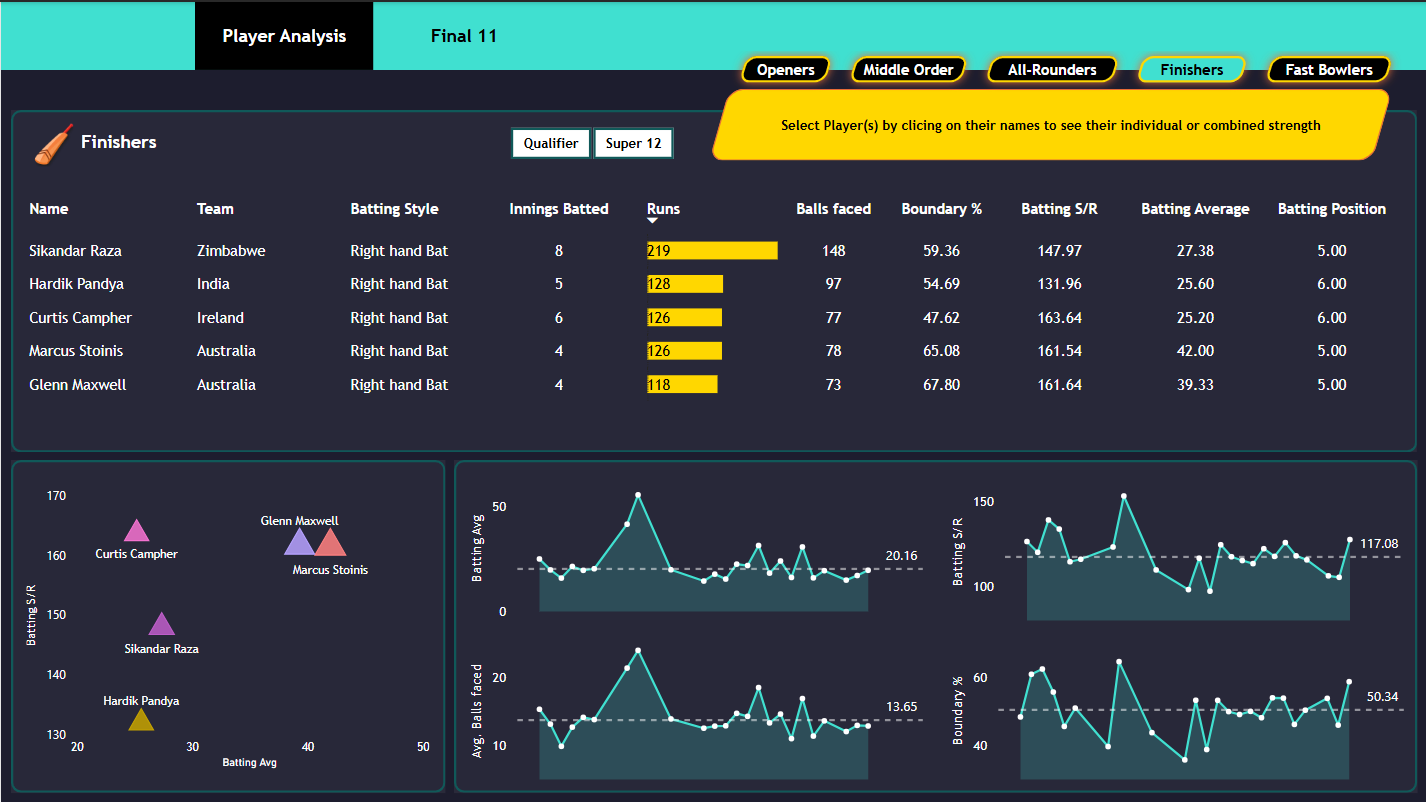

What the dashboard file says about the page in this screenshot:
{"tool":"powerbi","page":{"name":"Finishers/Lower Order Anchors","canvas":[1280,720],"ordinal":3},"visuals":[{"type":"shape","box":[0,61.3,1280,658.5],"z":0},{"type":"shape","box":[8.8,97.3,1262.5,307.4],"z":1000},{"type":"shape","box":[8.8,411.4,390,298.6],"z":2000},{"type":"shape","box":[635.4,78.3,613.7,64.2],"z":3000},{"type":"tableEx","fields":{"Values":["Players Data.name","Players Data.team","Players Data.battingStyle","Key_Measures.Total Innings Batted","Key_Measures.Total Runs","Key_Measures.total balls faced","Key_Measures.Boundary %","Key_Measures.Strike rate","Key_Measures.Batting Avg","Key_Measures.Batting Position"]},"box":[15.6,166.3,1248.9,234.4],"z":4000},{"type":"scatterChart","title":"Players by Batting Avg & Strike rate","fields":{"Category":["Players Data.name"],"X":["Key_Measures.Batting Avg"],"Y":["Key_Measures.Strike rate"],"Size":["Key_Measures.Batting Avg"]},"box":[17.5,428.9,371.6,263.6],"z":5000},{"type":"slicer","fields":{"Values":["Match Data.stage"]},"box":[431.9,106,196.5,37],"z":6000},{"type":"shape","box":[72,104.1,176,42.8],"z":7000},{"type":"card","fields":{"Values":["Key_Measures.Batting Avg"]},"box":[820.9,78.8,96.3,64.2],"z":8000},{"type":"card","fields":{"Values":["Key_Measures.Strike rate"]},"box":[917.2,78.8,112.8,64.2],"z":9000},{"type":"card","fields":{"Values":["Key_Measures.Boundary %"]},"box":[1130.2,78.8,93.4,64.2],"z":10000},{"type":"card","fields":{"Values":["Key_Measures.Avg. Balls faced"]},"box":[1030,78.8,100.2,64.2],"z":11000},{"type":"shape","box":[653.6,96.3,163.4,29.2],"z":12000},{"type":"shape","box":[406.6,411.4,864.7,298.6],"z":13000},{"type":"actionButton","box":[654.6,40.8,100.2,39.9],"z":14000},{"type":"actionButton","box":[753.3,40.8,123.5,39.9],"z":15000},{"type":"actionButton","box":[1011.1,40.8,116.7,39.9],"z":16000},{"type":"actionButton","box":[875.4,40.8,137.1,39.9],"z":17000},{"type":"actionButton","box":[1126.3,40.8,131.3,39.9],"z":18000},{"type":"areaChart","title":"Daily Batting Average","fields":{"Y":["Key_Measures.Batting Avg"],"Category":["Match Data.matchDate.Variation.Date Hierarchy.Day"]},"box":[416.3,419.2,416.3,141],"z":19000},{"type":"areaChart","title":"Batting Strike Rate","fields":{"Y":["Key_Measures.Strike rate"],"Category":["Match Data.matchDate.Variation.Date Hierarchy.Day"]},"box":[848.1,419.2,416.3,141],"z":20000},{"type":"areaChart","title":"Boundary %","fields":{"Y":["Key_Measures.Boundary %"],"Category":["Match Data.matchDate.Variation.Date Hierarchy.Day"]},"box":[848.1,562.2,416.3,141],"z":21000},{"type":"areaChart","title":"Average Balls Faced","fields":{"Y":["Key_Measures.Avg. Balls faced"],"Category":["Match Data.matchDate.Variation.Date Hierarchy.Day"]},"box":[416.3,562.2,416.3,141],"z":22000},{"type":"image","box":[18.5,100.2,53.5,55.4],"z":23000},{"type":"actionButton","box":[174.1,0,160.5,61.3],"z":24000},{"type":"actionButton","box":[335.6,0,160.5,61.3],"z":25000},{"type":"shape","box":[673.8,95.8,536.9,29.2],"z":26000}]}

Visuals, with their boxes in screenshot pixels (x1, y1, x2, y2), scaled from the page's 1280x720 canvas onto the 1426x802 screenshot:
shape: region(0, 68, 1425, 801)
shape: region(10, 108, 1416, 451)
shape: region(10, 458, 444, 791)
shape: region(708, 87, 1392, 159)
tableEx - Players Data.name x Players Data.team: region(17, 185, 1409, 446)
"Players by Batting Avg & Strike rate" scatterChart: region(19, 478, 433, 771)
slicer - Match Data.stage: region(481, 118, 700, 159)
shape: region(80, 116, 276, 164)
card - Key_Measures.Batting Avg: region(915, 88, 1022, 159)
card - Key_Measures.Strike rate: region(1022, 88, 1147, 159)
card - Key_Measures.Boundary %: region(1259, 88, 1363, 159)
card - Key_Measures.Avg. Balls faced: region(1147, 88, 1259, 159)
shape: region(728, 107, 910, 140)
shape: region(453, 458, 1416, 791)
actionButton: region(729, 45, 841, 90)
actionButton: region(839, 45, 977, 90)
actionButton: region(1126, 45, 1256, 90)
actionButton: region(975, 45, 1128, 90)
actionButton: region(1255, 45, 1401, 90)
"Daily Batting Average" areaChart: region(464, 467, 928, 624)
"Batting Strike Rate" areaChart: region(945, 467, 1409, 624)
"Boundary %" areaChart: region(945, 626, 1409, 783)
"Average Balls Faced" areaChart: region(464, 626, 928, 783)
image: region(21, 112, 80, 173)
actionButton: region(194, 0, 373, 68)
actionButton: region(374, 0, 553, 68)
shape: region(751, 107, 1349, 139)
